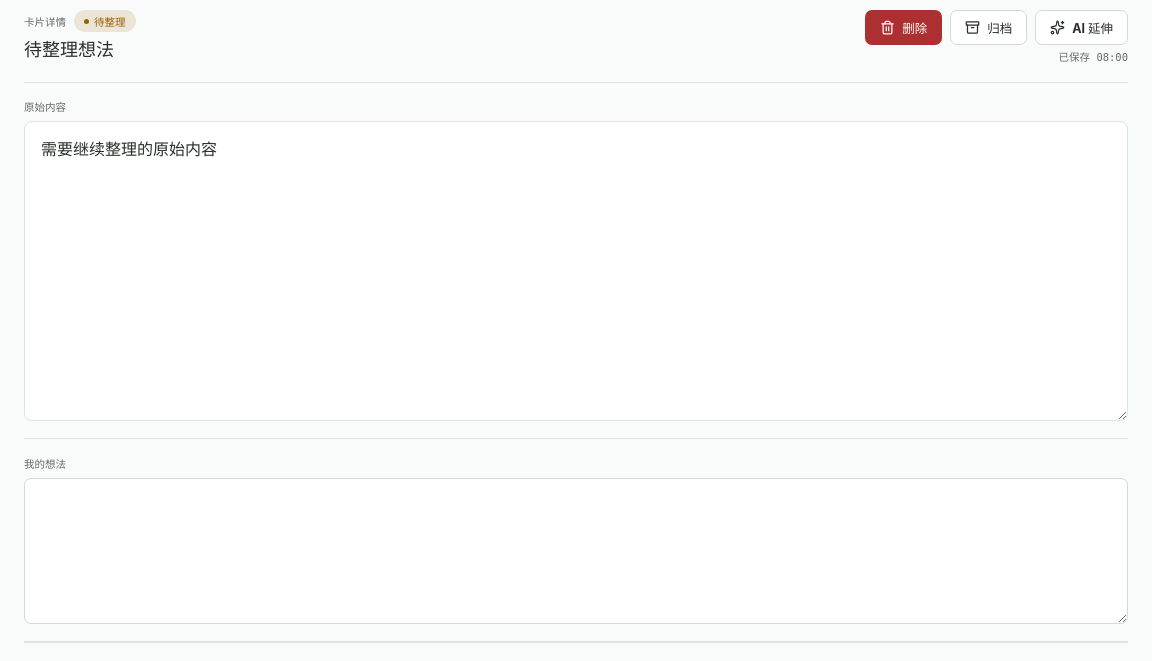
Test: CardDetail › keeps lifecycle failures in the detail panel
(page scrolled)
Click the button "归档": x=989, y=28 [950, 10, 1027, 45]
(page scrolled)
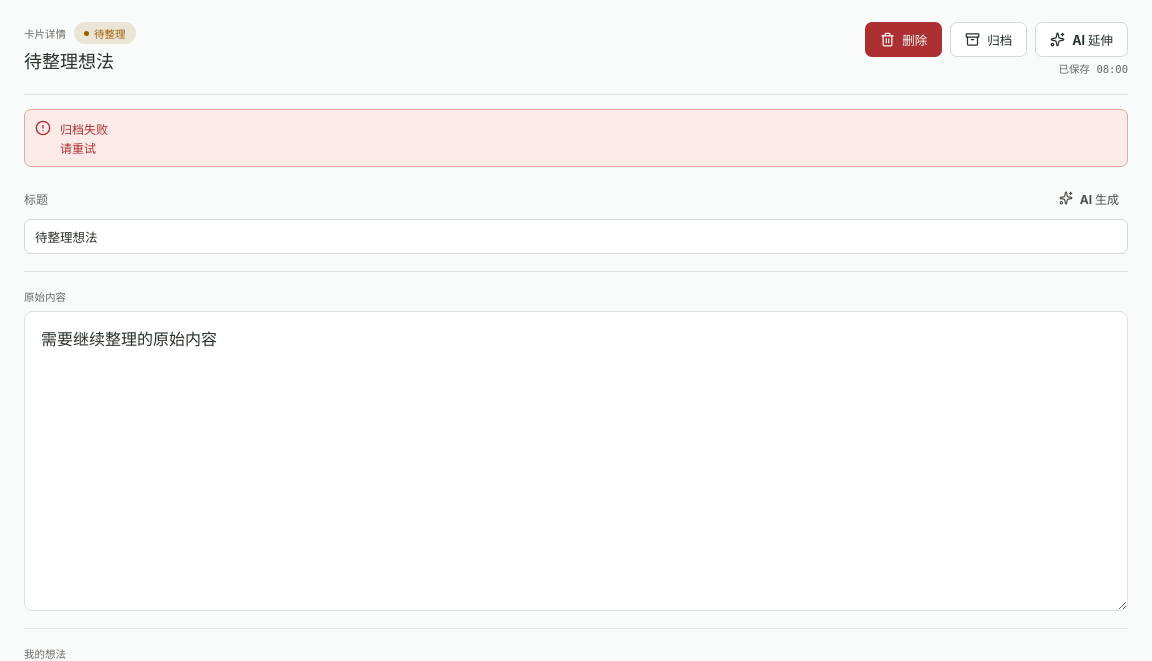
Expected: the message shows "归档失败", [60, 122, 108, 137]
Expected: the message shows "请重试", [60, 141, 96, 156]
